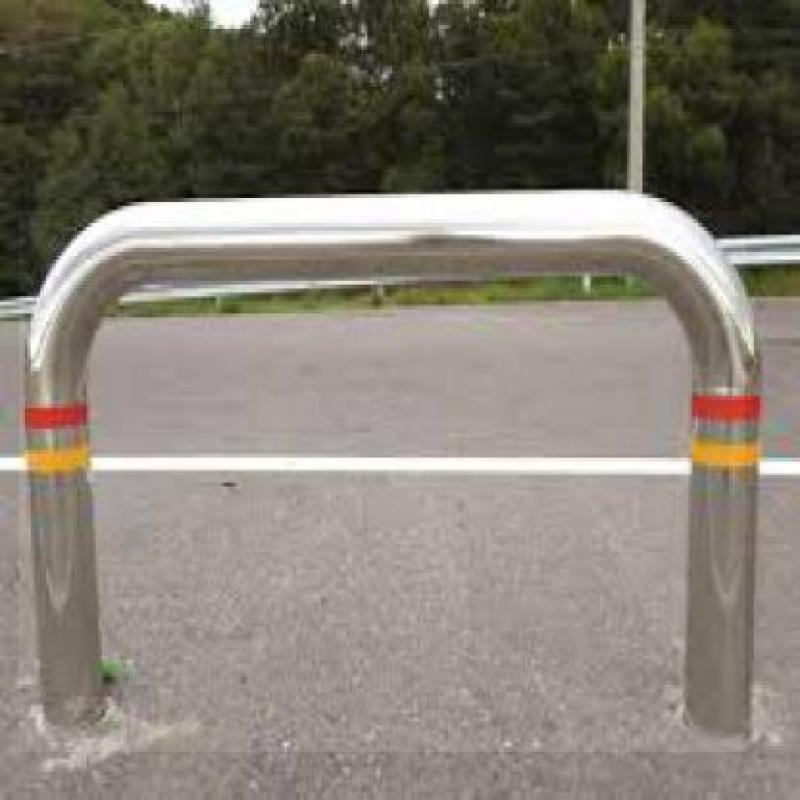bolard: (19, 211, 745, 752)
